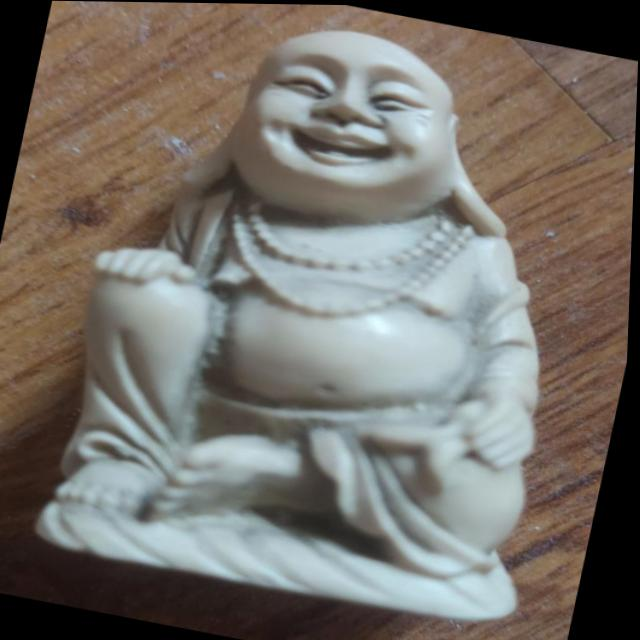Smiling Buddha: (59, 1, 588, 582)
